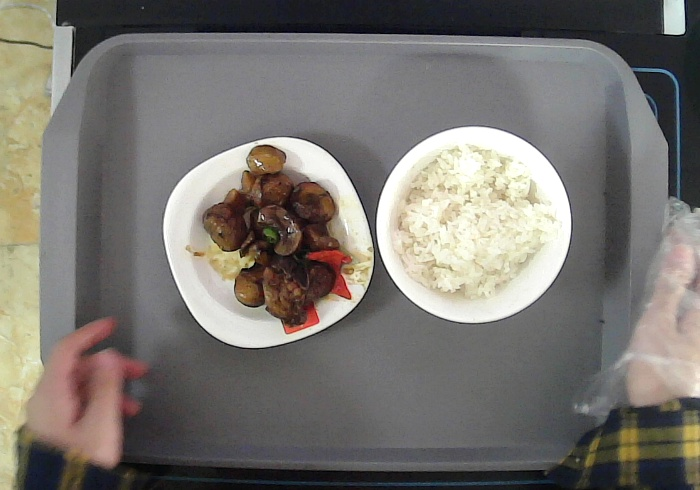SHKJ-Bai_Se_Si_Fang_Cai_Die: (161, 136, 375, 350)
SHKJ-Fan_Wan: (375, 125, 571, 325)
